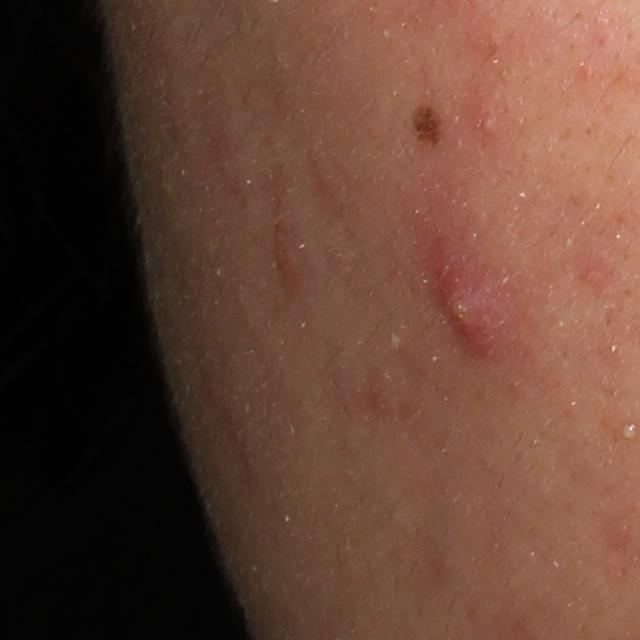nevus: (406, 101, 445, 149)
pustule: (430, 266, 497, 350)
